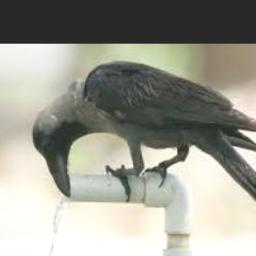Crow: (32, 60, 256, 214)
